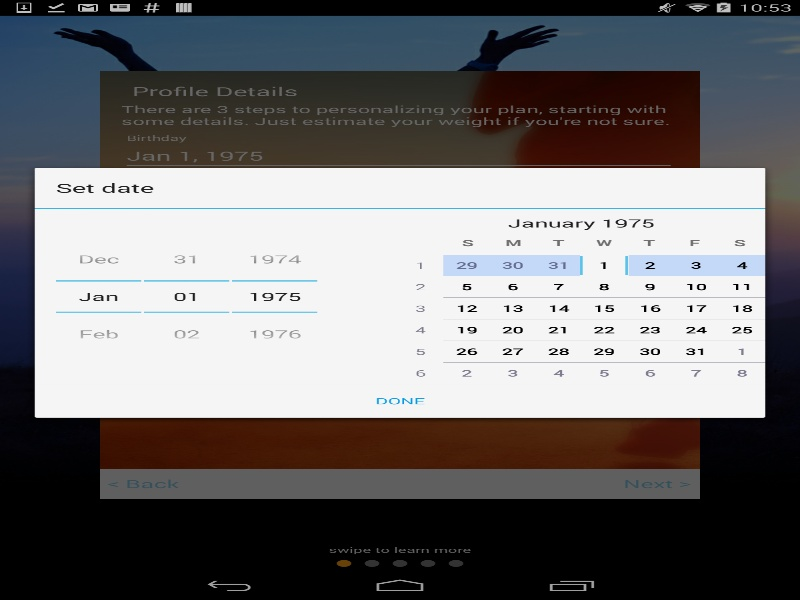Button: (34, 384, 765, 417), (231, 240, 317, 281), (231, 311, 317, 352), (56, 240, 141, 281), (56, 311, 141, 352), (144, 240, 229, 281), (144, 311, 229, 352)
Input: (231, 281, 317, 311), (56, 281, 141, 311), (144, 281, 229, 311)
